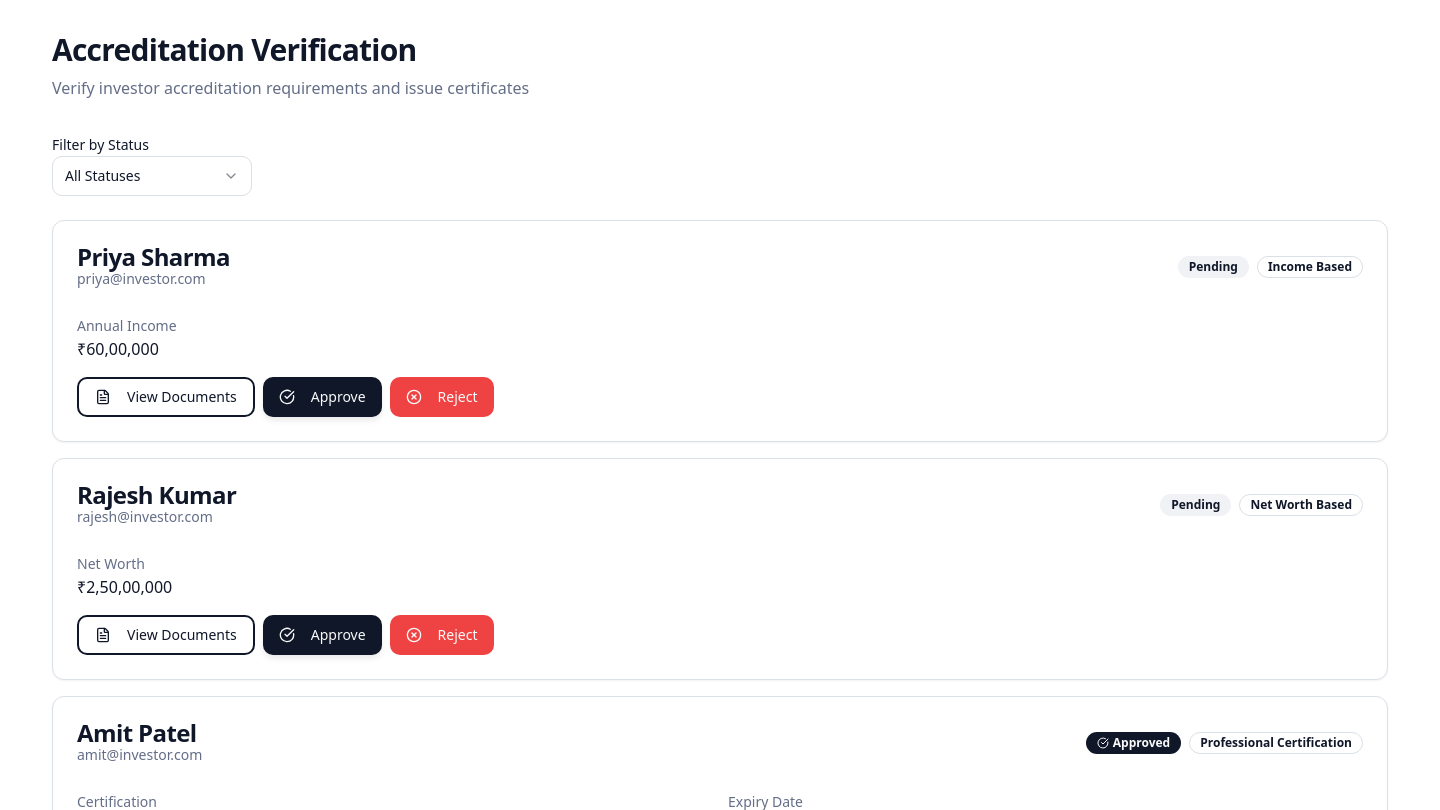
Test: US-COMPLIANCE-003: Accreditation Verification › View Application Details › should open details dialog when viewing documents
This screenshot has width=1440, height=810.
Expected: the text "Priya Sharma" is shown, 77,245 -> 230,269
Click the button "View Documents" below "₹60,00,000" at (166, 397), box 77,377 -> 255,417
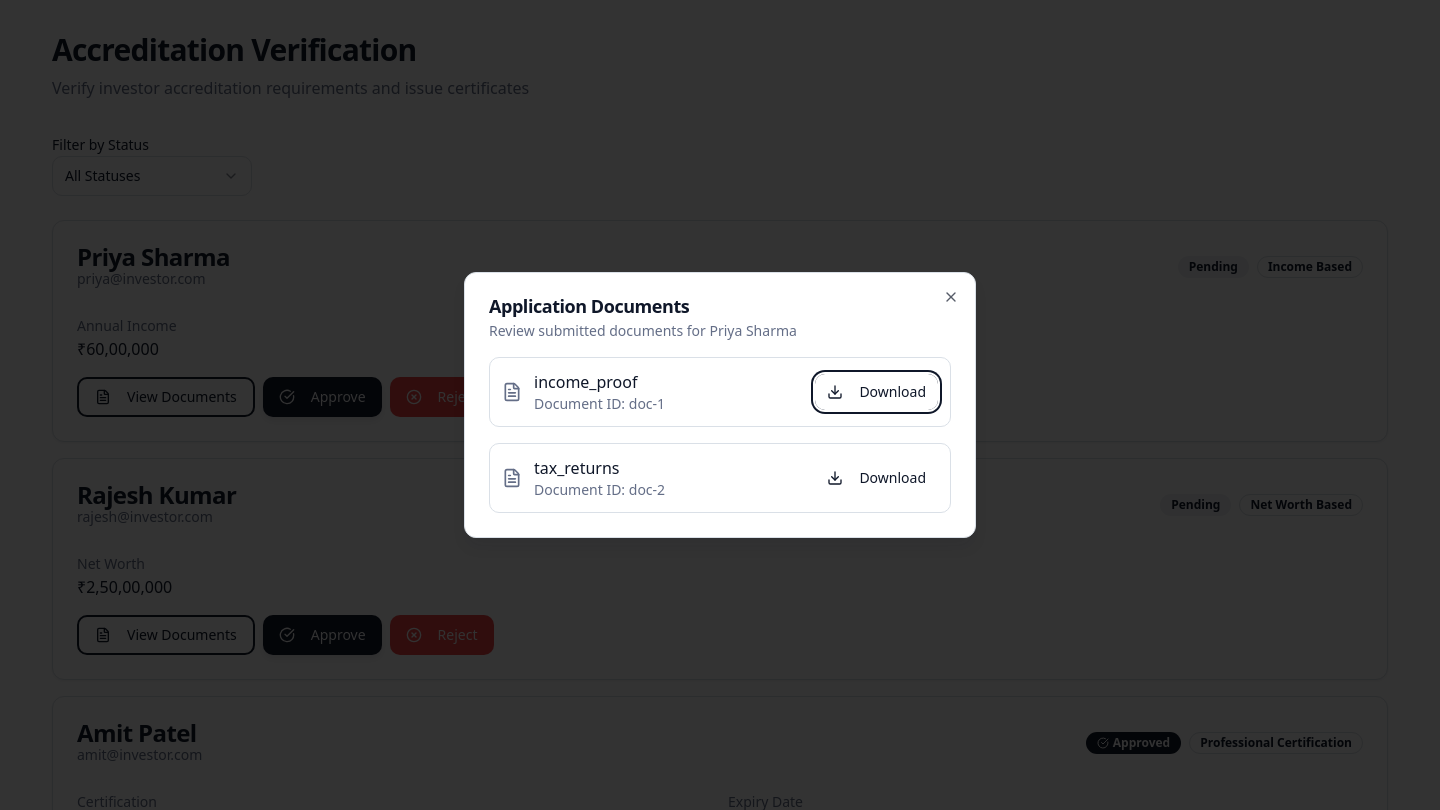
Result: the heading "Application Documents" is shown at 489,294 -> 689,318
